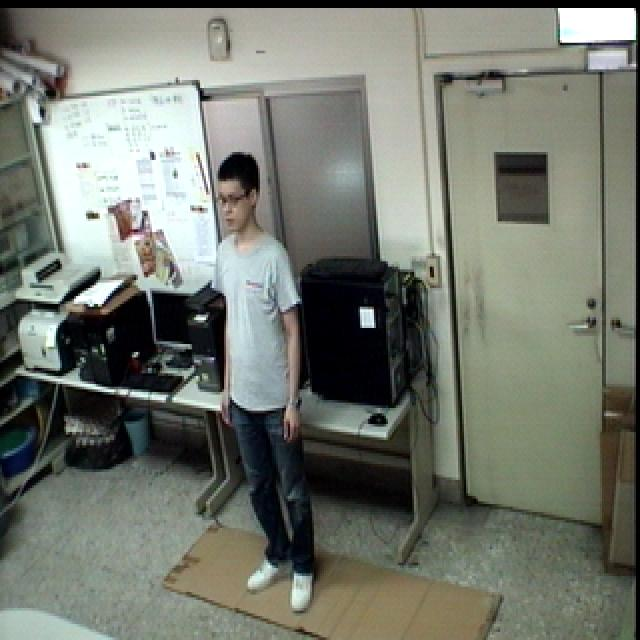stand: (207, 150, 331, 616)
